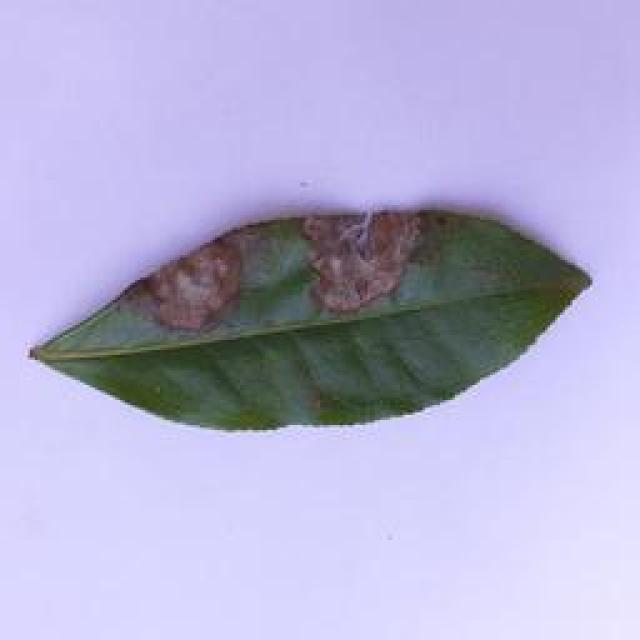Gray Blight: (29, 206, 593, 432)
